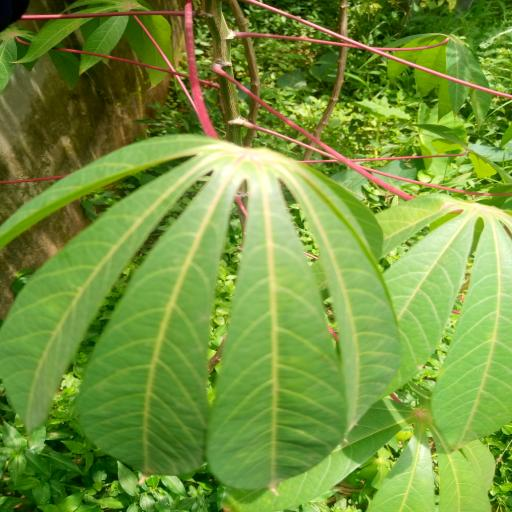Cassava_Healthy: (11, 132, 408, 496)
